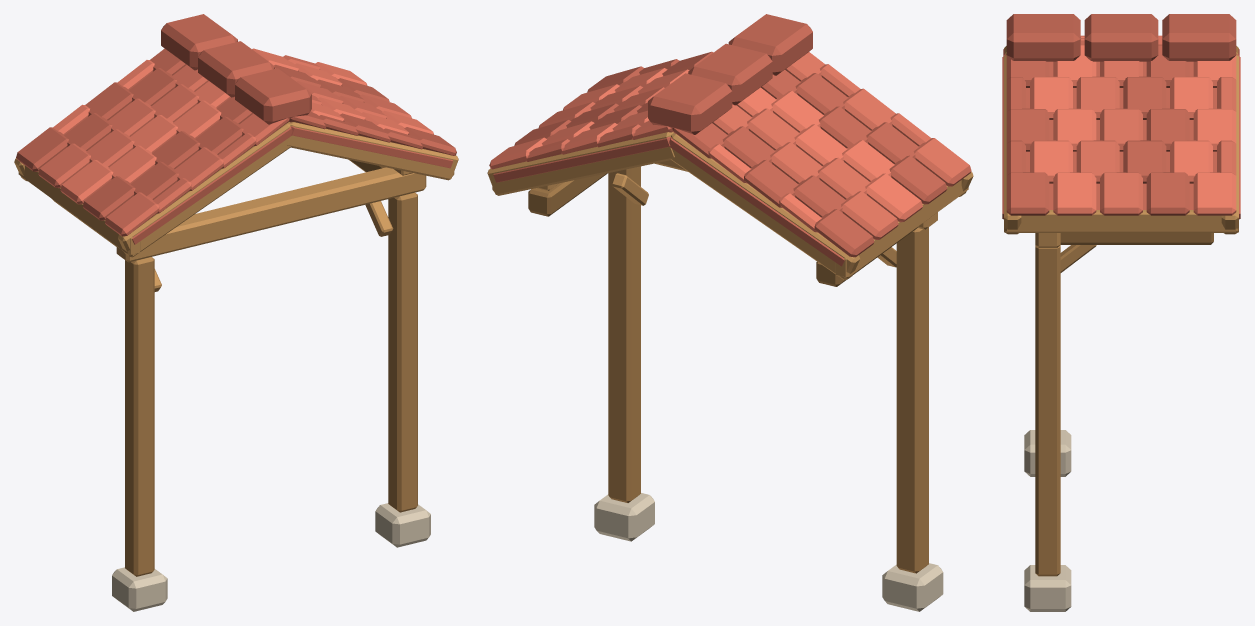
File: porch_canopy.glb
3 views of the same model, side by side, from view 1: azimuth 30°, elevation 25°; view 2: azimuth 150°, elevation 25°; view 3: azimuth 270°, elevation 25° (orthographic). The views are drawn at different scales.
Visible parts, largest first — view 1: porch_canopy; view 2: porch_canopy; view 3: porch_canopy.
Boxes of the visible parts, x1,y1,x2,y2 form: porch_canopy: (14, 14, 458, 611); porch_canopy: (487, 14, 973, 611); porch_canopy: (1002, 14, 1240, 611).
Size of the model in its own units: 2.08 by 2.89 by 1.21.
